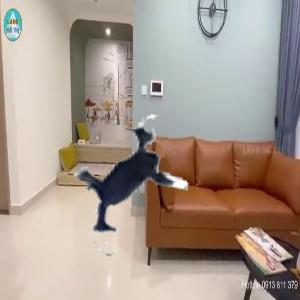drone: (49, 99, 219, 269)
